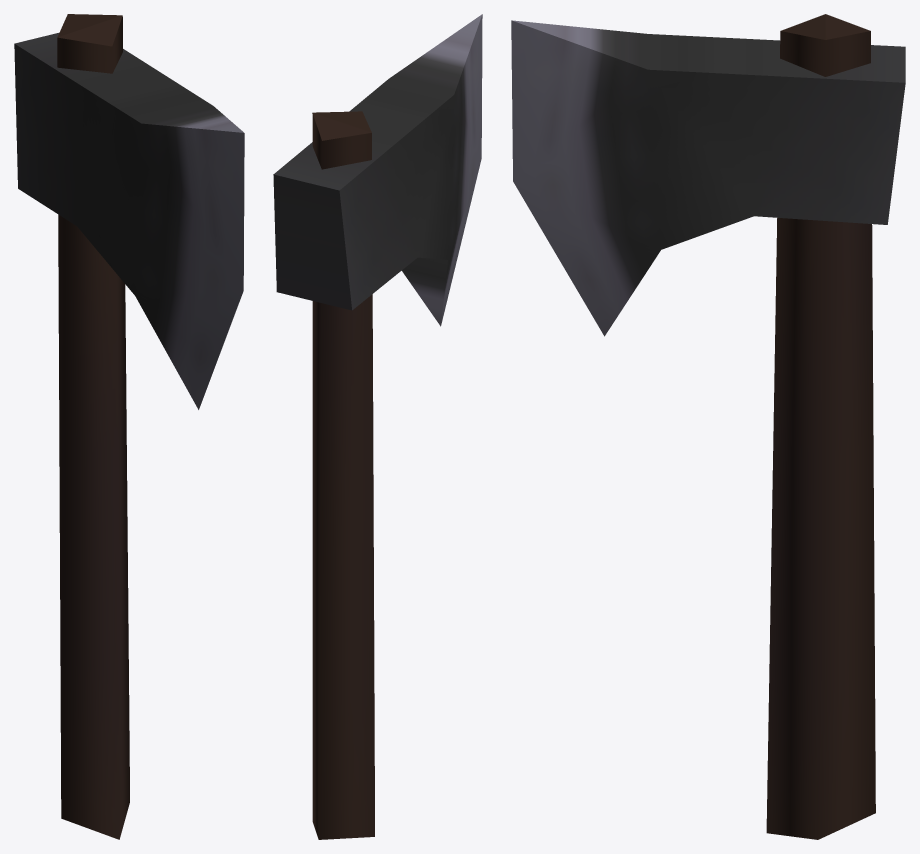
The model's file is w_hatchet.FBX.
The picture shows the model from 3 angles, left to right: view 1: azimuth 30°, elevation 25°; view 2: azimuth 150°, elevation 25°; view 3: azimuth 270°, elevation 25°; orthographic projection. The views are drawn at different scales.
Visible parts, largest first — view 1: w_hatchet; view 2: w_hatchet; view 3: w_hatchet.
Boxes of the visible parts, x1,y1,x2,y2 form: w_hatchet: (14, 14, 244, 839); w_hatchet: (273, 14, 482, 839); w_hatchet: (511, 14, 905, 839).
Bounding box in the file's own units: 4.29 × 34.11 × 15.
1 material, 1 textured.
